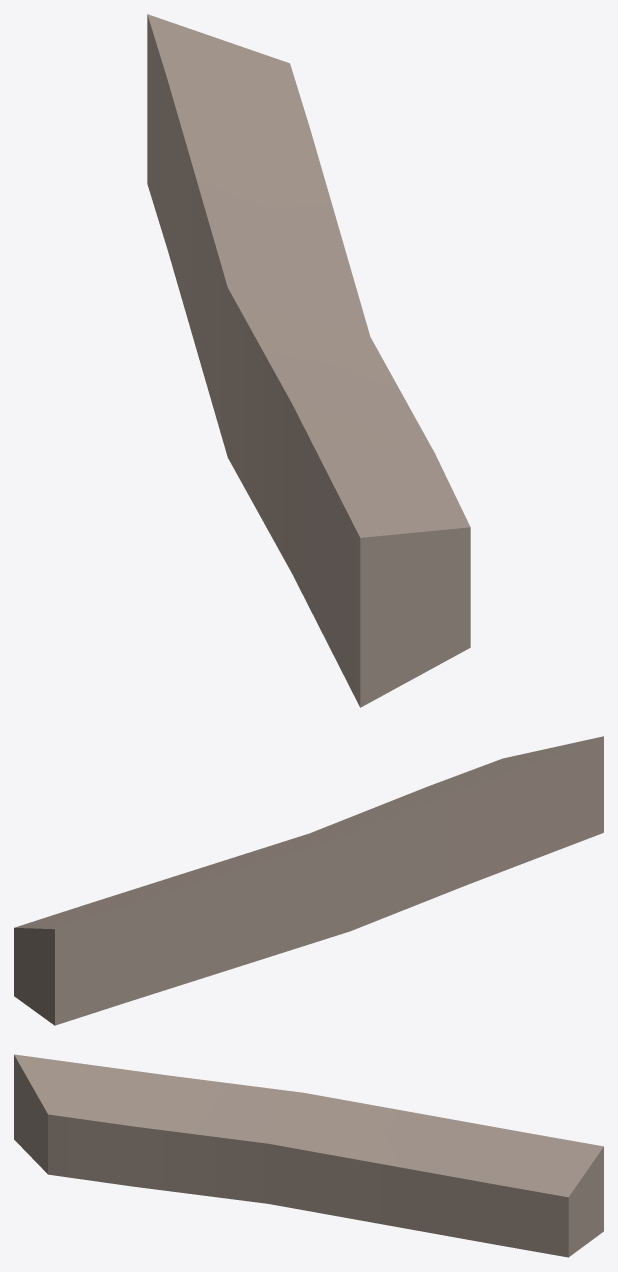
File: Building_Wall_2.fbx
3 renders of one model, top to bottom at view 1: azimuth 30°, elevation 25°; view 2: azimuth 150°, elevation 25°; view 3: azimuth 270°, elevation 25°, orthographic. The views are drawn at different scales.
Parts seen in each view (by area): view 1: pCube31; view 2: pCube31; view 3: pCube31.
Boxes of the visible parts, bbox=[...] form: pCube31: bbox=[147, 14, 470, 707]; pCube31: bbox=[14, 736, 603, 1025]; pCube31: bbox=[14, 1054, 603, 1257].
Size of the model in its own units: 15.3 by 5.13 by 32.28.
